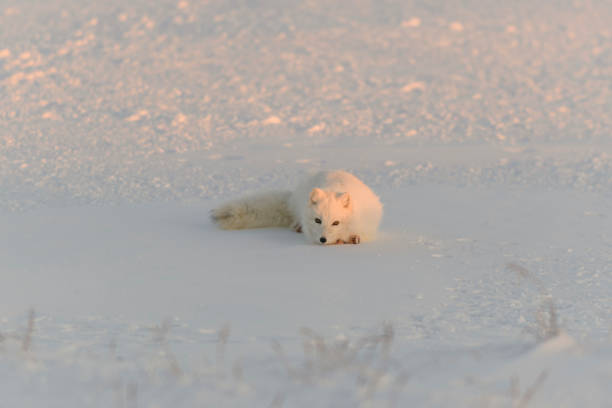arcticfox: (309, 205, 348, 256)
